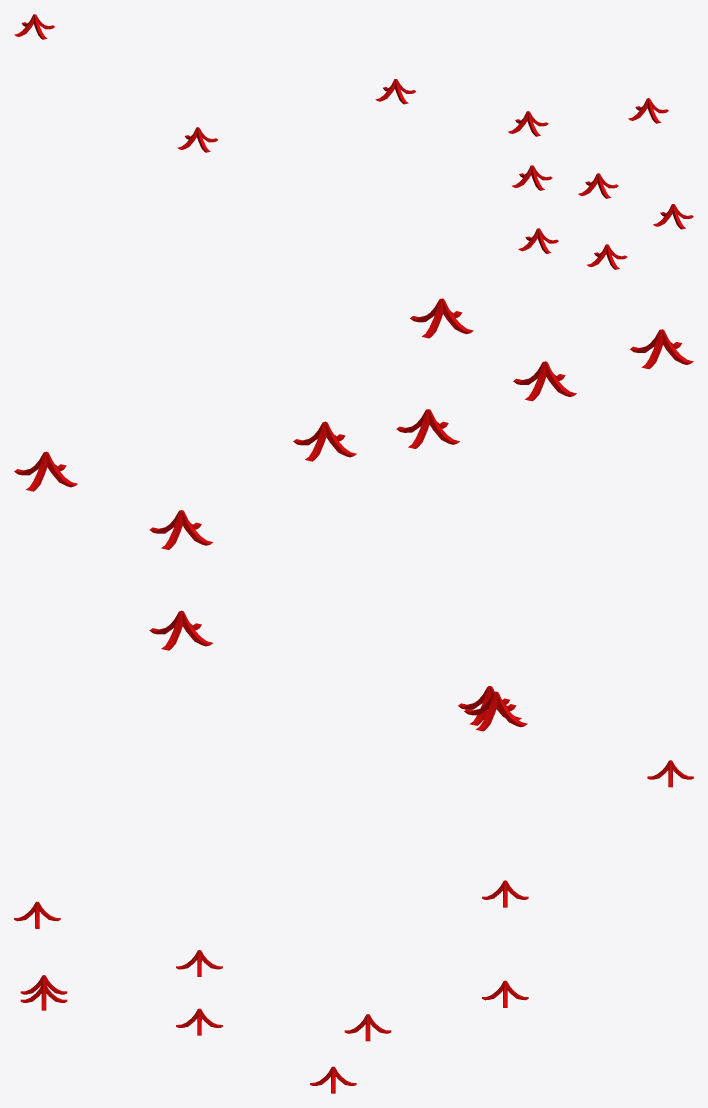
File: object_65_lev2.glb
The picture shows the model from 3 angles, top to bottom: view 1: azimuth 30°, elevation 25°; view 2: azimuth 150°, elevation 25°; view 3: azimuth 270°, elevation 25°; orthographic projection. The views are drawn at different scales.
Parts seen in each view (by area): view 1: object_65_lev2; view 2: object_65_lev2; view 3: object_65_lev2.
Part boxes in pixels (x1=…): object_65_lev2: x1=14, y1=14, x2=693, y2=269; object_65_lev2: x1=14, y1=298, x2=693, y2=731; object_65_lev2: x1=14, y1=760, x2=693, y2=1093.
Size of the model in its own units: 61.42 by 11.09 by 71.1.
